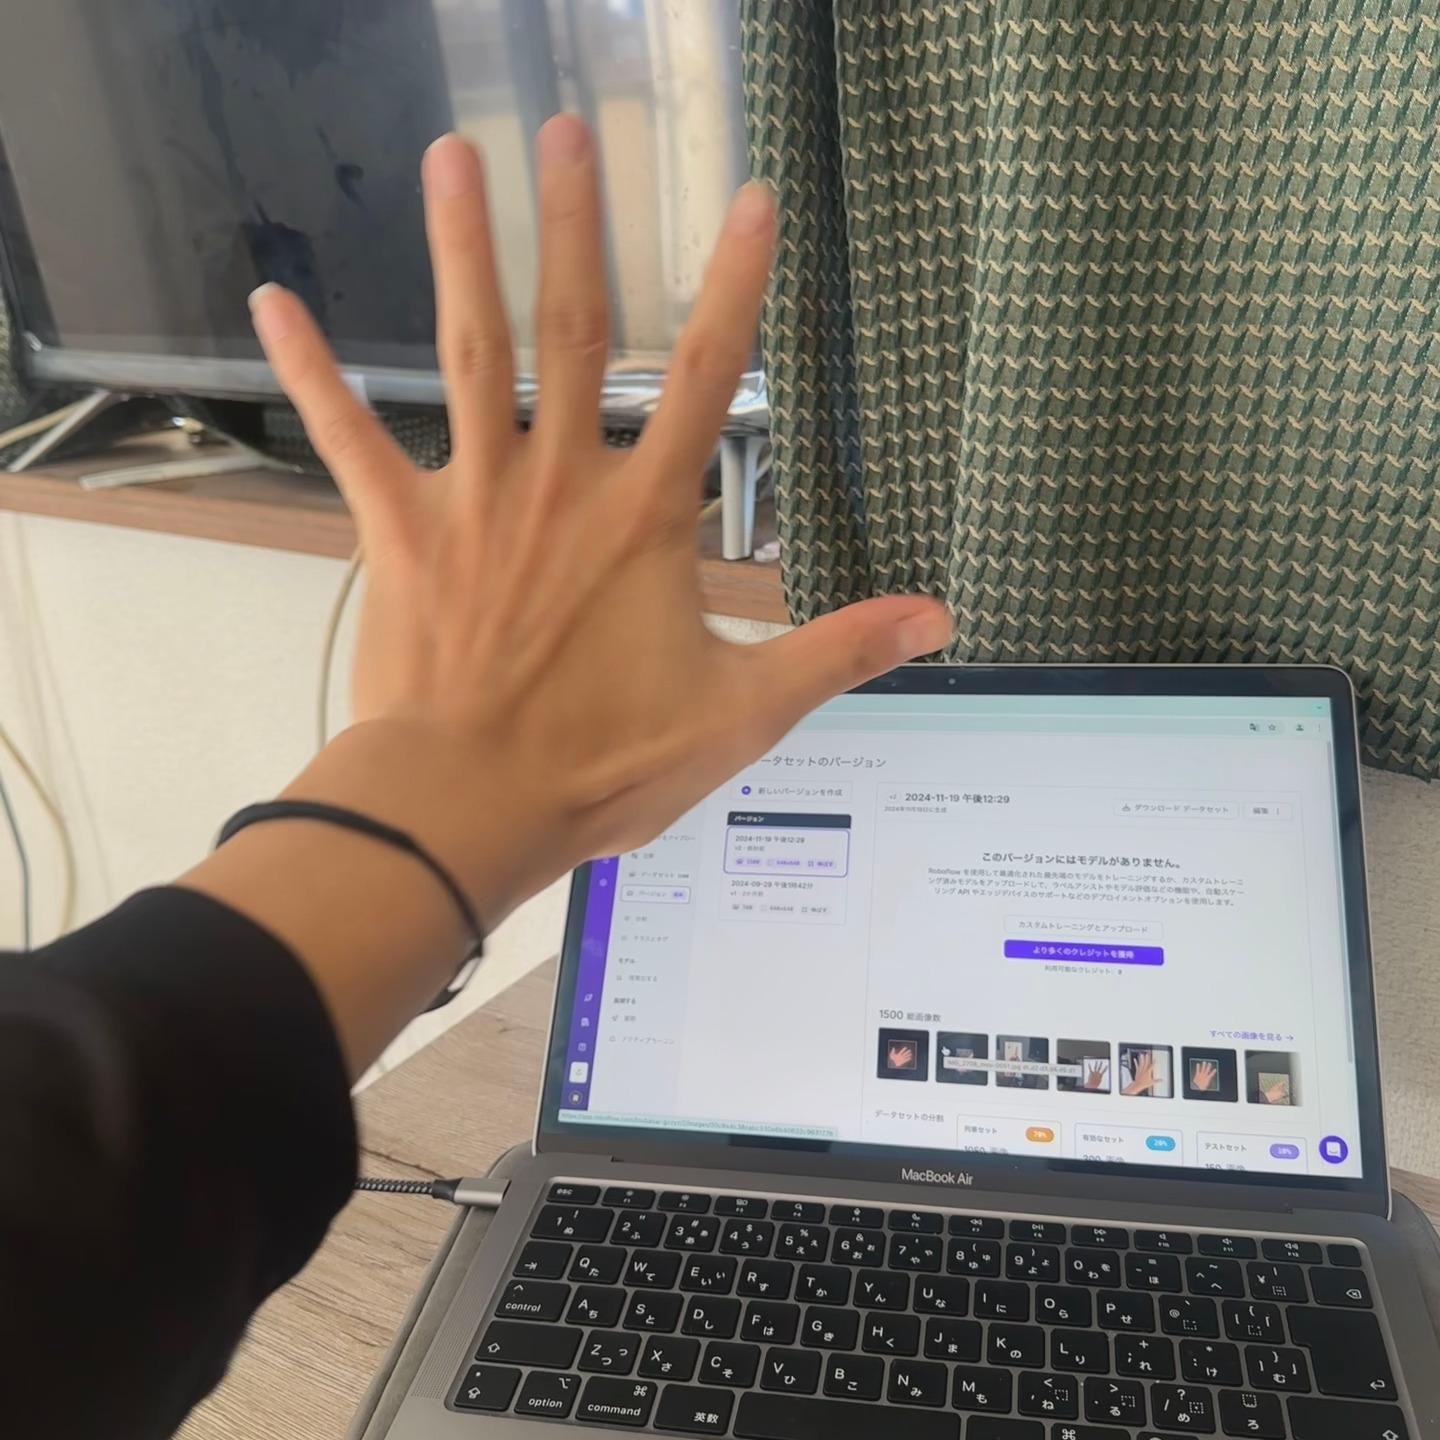without_gloves: (105, 447, 1207, 1299)
